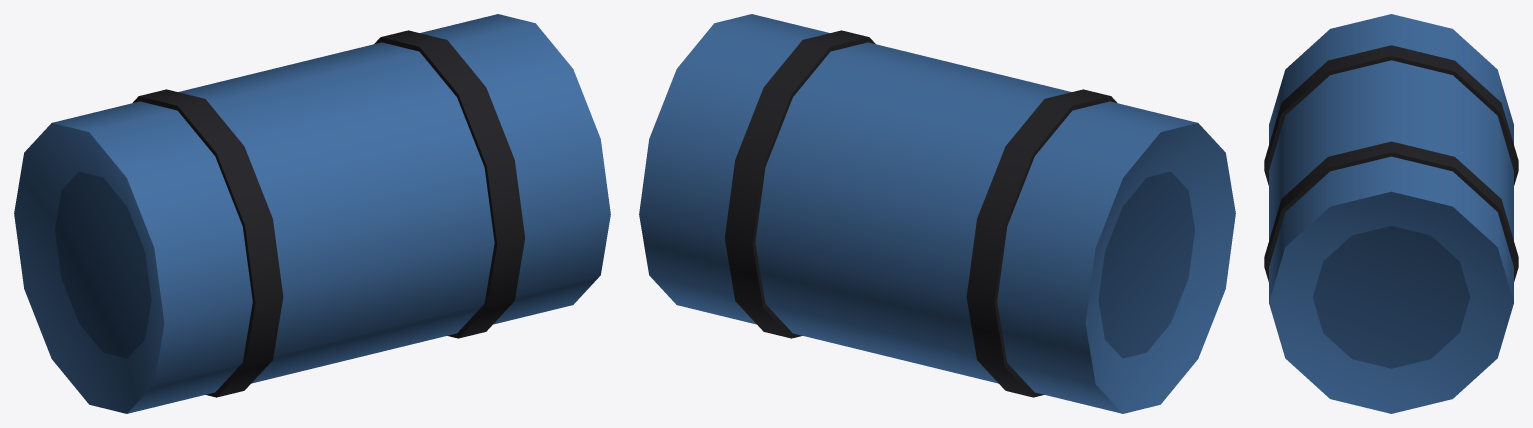
The model's file is SM_SleepingBag_Rolled.glb.
3 renders of one model, left to right at view 1: azimuth 30°, elevation 25°; view 2: azimuth 150°, elevation 25°; view 3: azimuth 270°, elevation 25°, orthographic. The views are drawn at different scales.
Visible parts, largest first — view 1: SM_SleepingBag_Rolled; view 2: SM_SleepingBag_Rolled; view 3: SM_SleepingBag_Rolled.
Part boxes in pixels (x1,y1,x2,y2): SM_SleepingBag_Rolled: (14,14,610,413); SM_SleepingBag_Rolled: (639,14,1235,413); SM_SleepingBag_Rolled: (1264,14,1518,413).
Size of the model in its own units: 0.48 by 0.29 by 0.29.
Materials: 1 (1 with a texture image).
